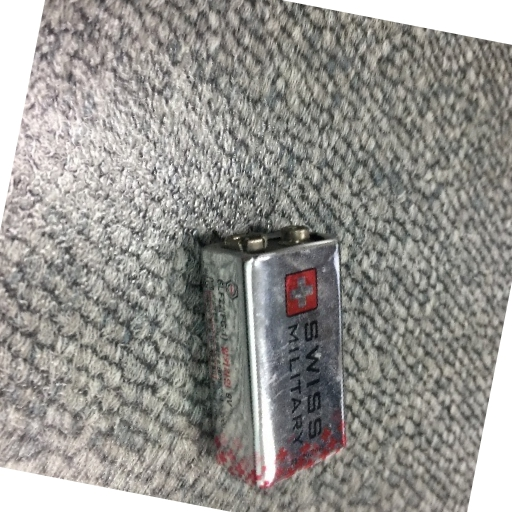Battery_3: (192, 217, 361, 492)
